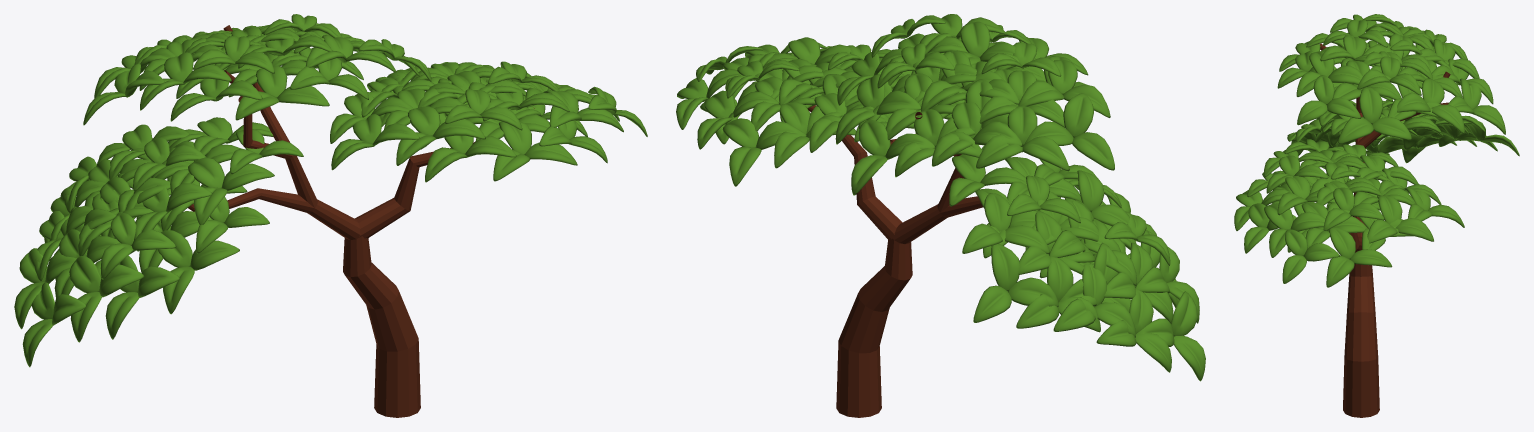
The model's file is Tree.fbx.
3 renders of one model, left to right at view 1: azimuth 30°, elevation 25°; view 2: azimuth 150°, elevation 25°; view 3: azimuth 270°, elevation 25°, orthographic. The views are drawn at different scales.
Parts seen in each view (by area): view 1: LeafGroup, LeafGroup.001, LeafGroup.002, Tree; view 2: LeafGroup, LeafGroup.002, LeafGroup.001, Tree; view 3: LeafGroup.001, LeafGroup.002, Tree, LeafGroup.
Part boxes in pixels (bbox=[...]): LeafGroup: bbox=[14, 117, 303, 367]; LeafGroup.001: bbox=[330, 61, 647, 182]; LeafGroup.002: bbox=[83, 14, 431, 125]; Tree: bbox=[188, 25, 534, 417]; LeafGroup: bbox=[949, 145, 1205, 381]; LeafGroup.002: bbox=[835, 14, 1114, 195]; LeafGroup.001: bbox=[676, 37, 951, 186]; Tree: bbox=[808, 105, 982, 417]; LeafGroup.001: bbox=[1234, 139, 1464, 287]; LeafGroup.002: bbox=[1277, 14, 1505, 143]; Tree: bbox=[1320, 43, 1450, 417]; LeafGroup: bbox=[1287, 100, 1519, 163].
Size of the model in its own units: 448 by 309 by 248.
